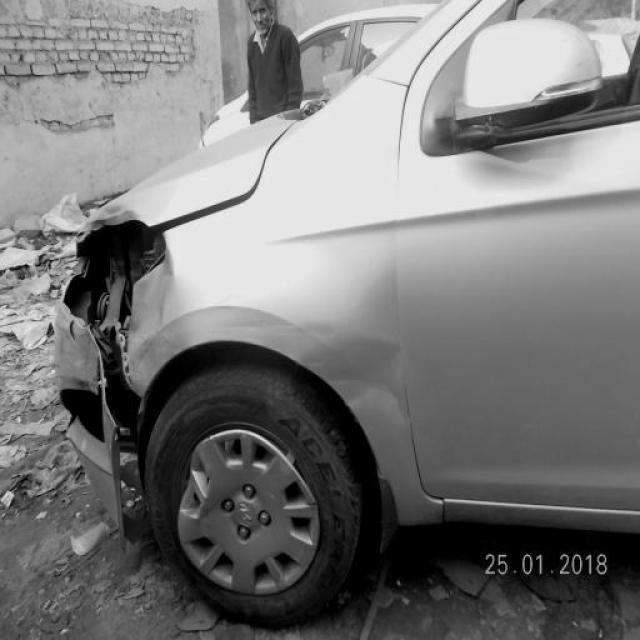car damage: (58, 212, 182, 436), (271, 312, 408, 429)
